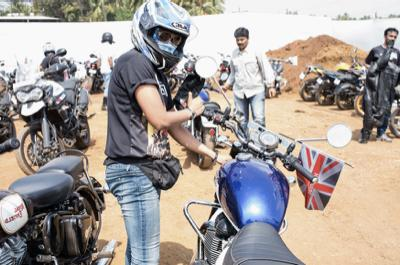With Helmet: (129, 0, 198, 74)
